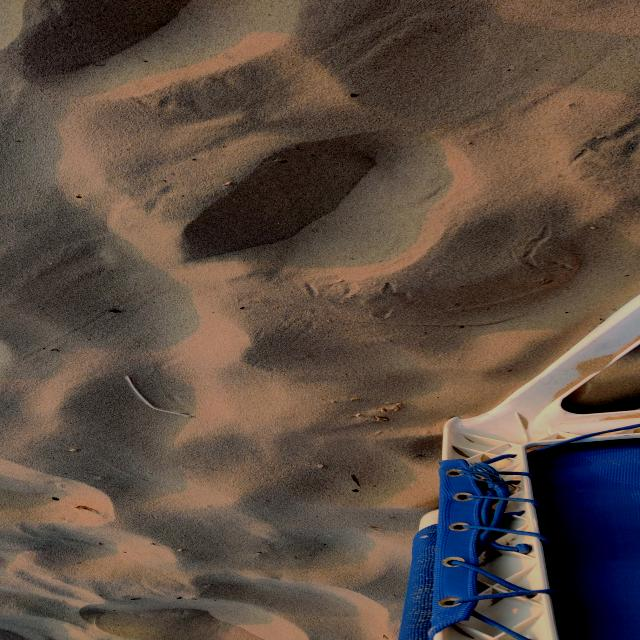Other plastic bottle: (125, 376, 191, 417)
